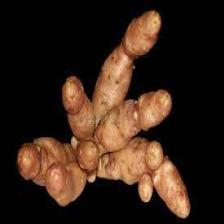Damaged potato: (10, 10, 194, 216)
